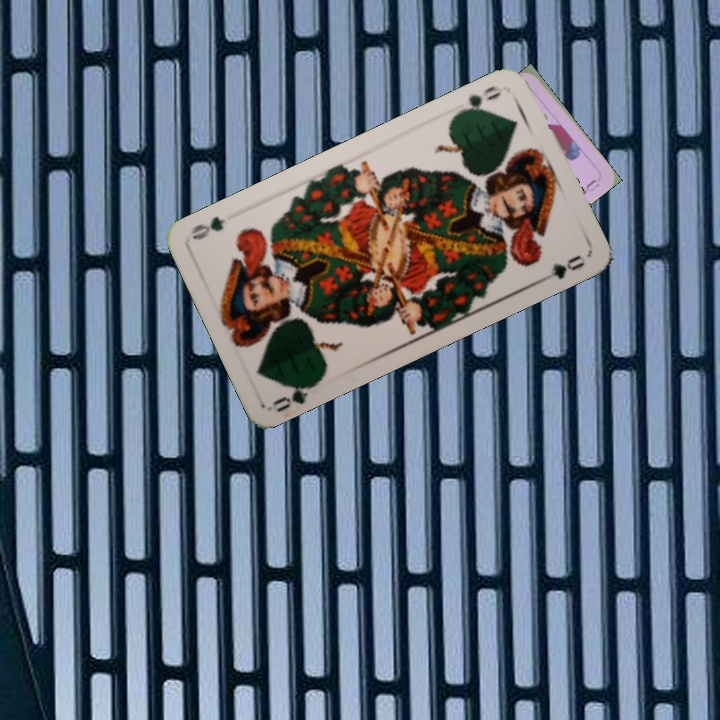GO: (269, 375, 323, 415), (453, 81, 505, 118)
